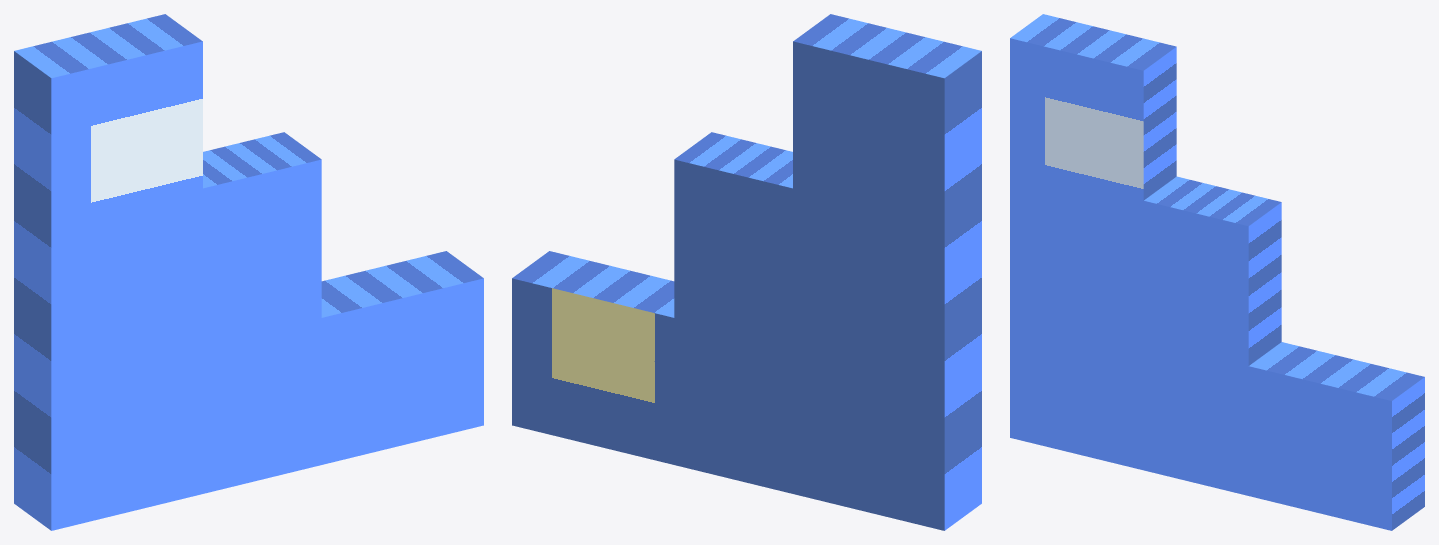
The picture shows the model from 3 angles, left to right: view 1: azimuth 30°, elevation 25°; view 2: azimuth 150°, elevation 25°; view 3: azimuth 330°, elevation 25°; orthographic projection. The views are drawn at different scales.
Bounding box in the file's own units: 1.3 × 1.3 × 0.195.
Materials: 1 (1 with a texture image).
